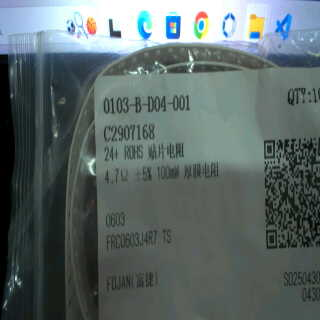4.7R: (100, 163, 133, 187)
